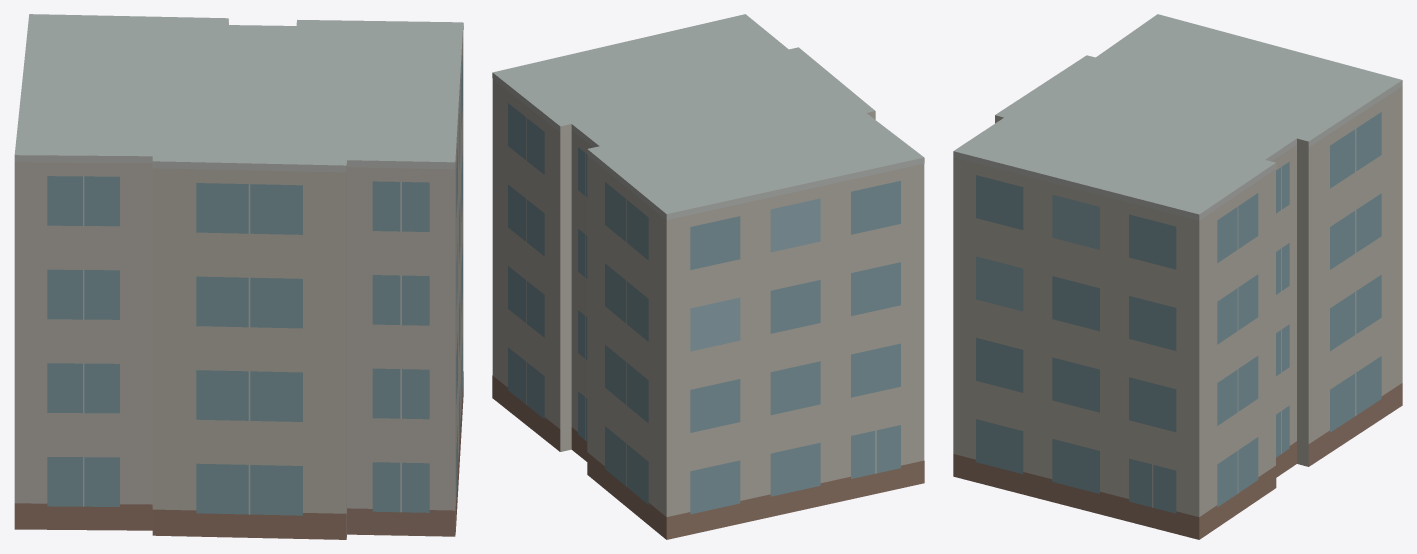
Rendered from survey-upis-32977777.glb.
3 renders of one model, left to right at view 1: azimuth 30°, elevation 25°; view 2: azimuth 150°, elevation 25°; view 3: azimuth 270°, elevation 25°, orthographic. The views are drawn at different scales.
Visible parts, largest first — view 1: survey-upis-32977777.tmp; view 2: survey-upis-32977777.tmp; view 3: survey-upis-32977777.tmp.
Boxes of the visible parts, bbox=[...] form: survey-upis-32977777.tmp: bbox=[14, 14, 463, 539]; survey-upis-32977777.tmp: bbox=[492, 14, 924, 539]; survey-upis-32977777.tmp: bbox=[953, 14, 1402, 539].
Bounding box in the file's own units: 17.45 × 13.2 × 16.53.
